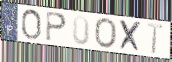0: (72, 14, 91, 47)
O: (94, 17, 118, 50), (20, 9, 43, 41)
P: (45, 10, 68, 43)
T: (146, 21, 164, 55)
X: (119, 19, 143, 54)
